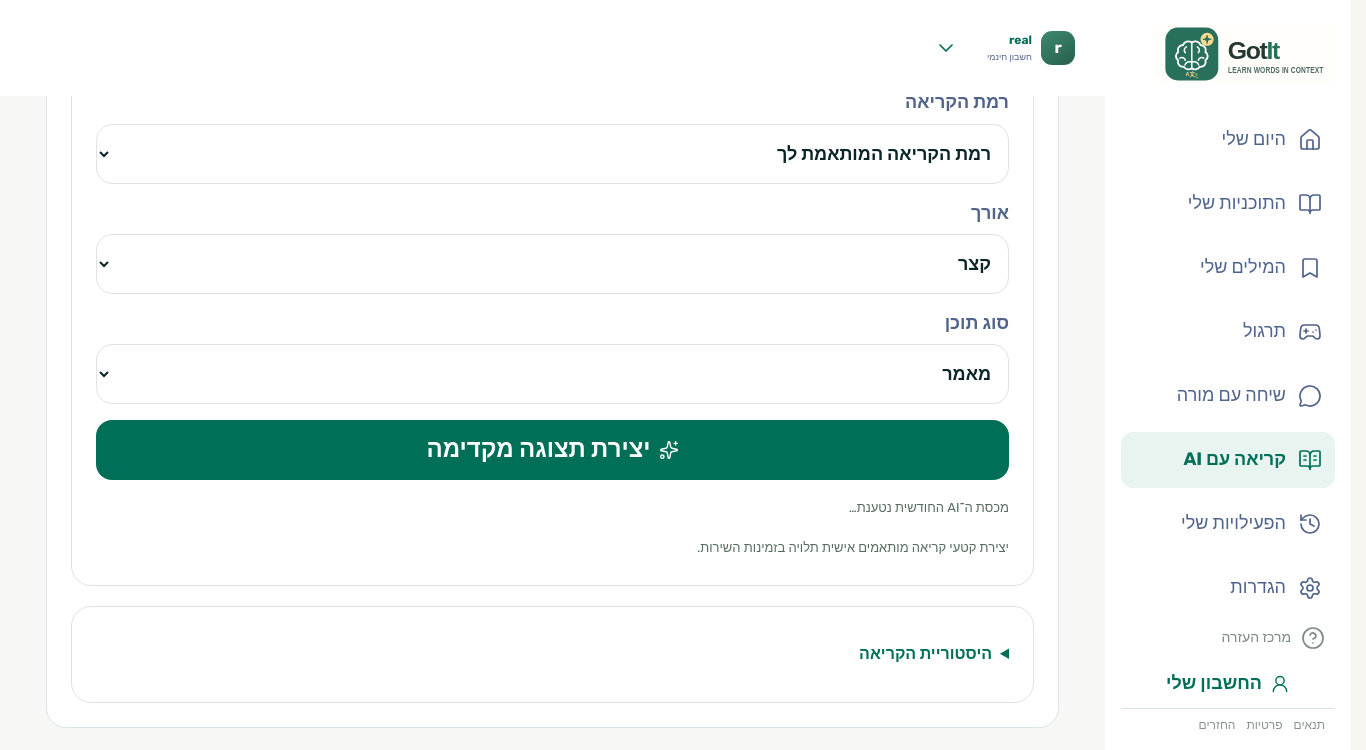
Scenario: live server-backed flows › previews the generated reading before explicit saving and offers a server quiz after publication
(page scrolled)
What coordinates should you click on to do the following:
click the button "יצירת תצוגה מקדימה"
I would click on:
 (552, 450)
Its box is [96,420,1009,480].
(page scrolled)
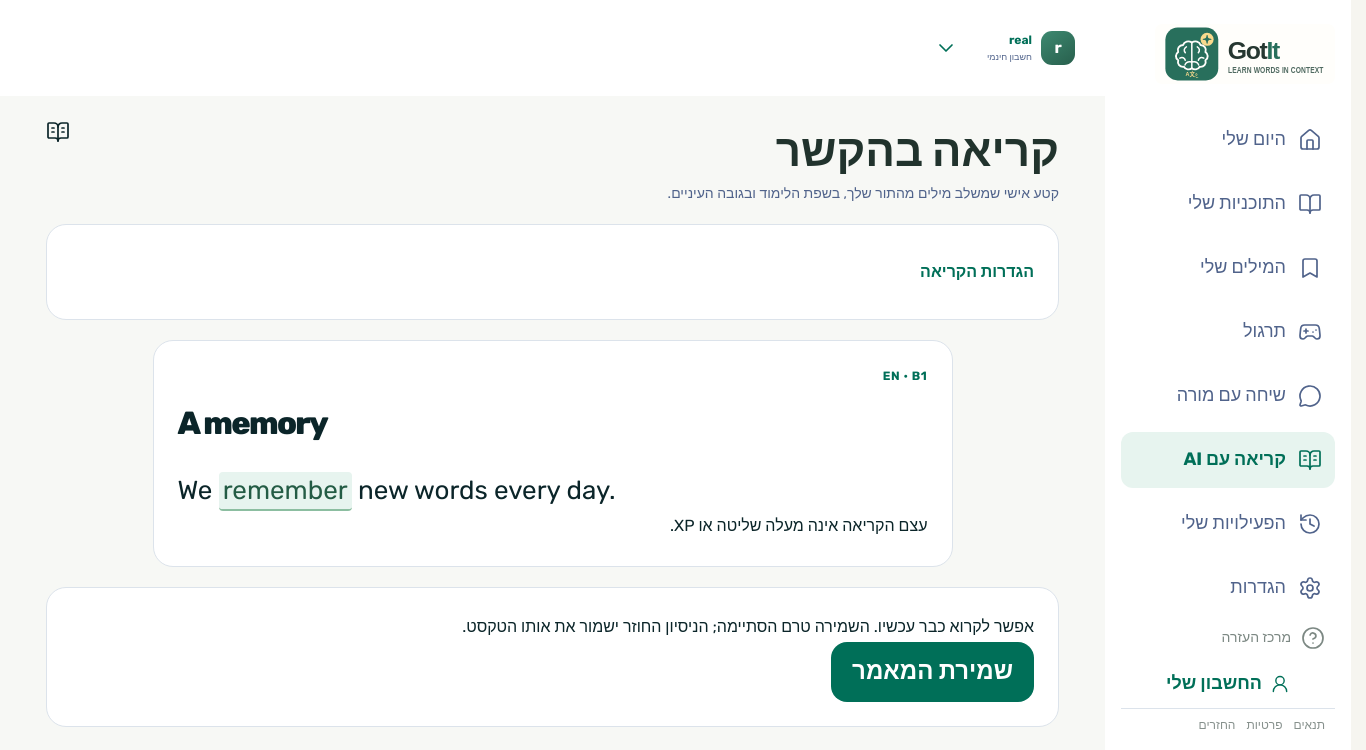
Check: the heading "A memory" is shown, box [178,404,327,442]
What coordinates should you click on to do the following:
click the button "שמירת המאמר"
I would click on:
 (933, 672)
Its box is [831,642,1034,702].
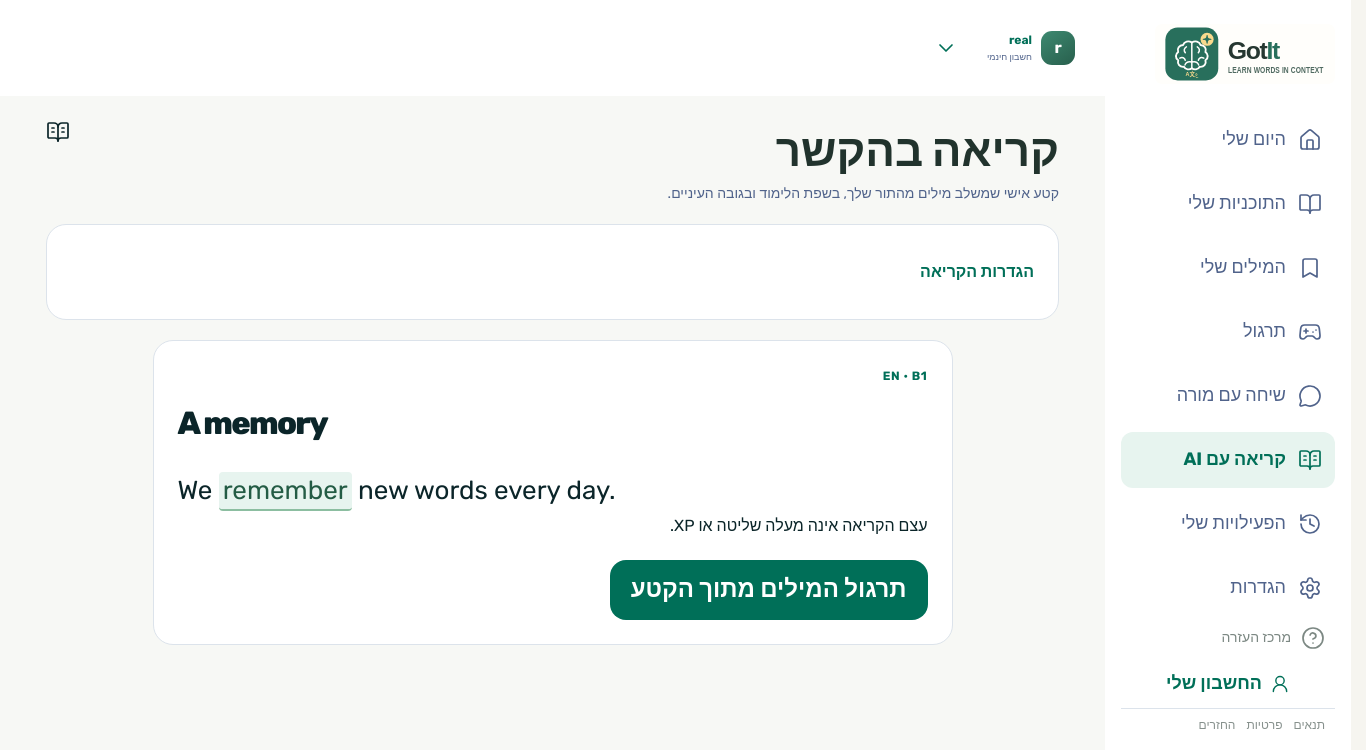
Check: the element with class "live-reading-body" reads "We remember new words every day.", box [178,472,616,511]
Check: the link "תרגול המילים מתוך הקטע" is shown, box [610,560,928,620]
What coordinates should you click on to do the following:
click the button "remember"
I would click on:
 (285, 492)
Its box is [219,472,352,511].
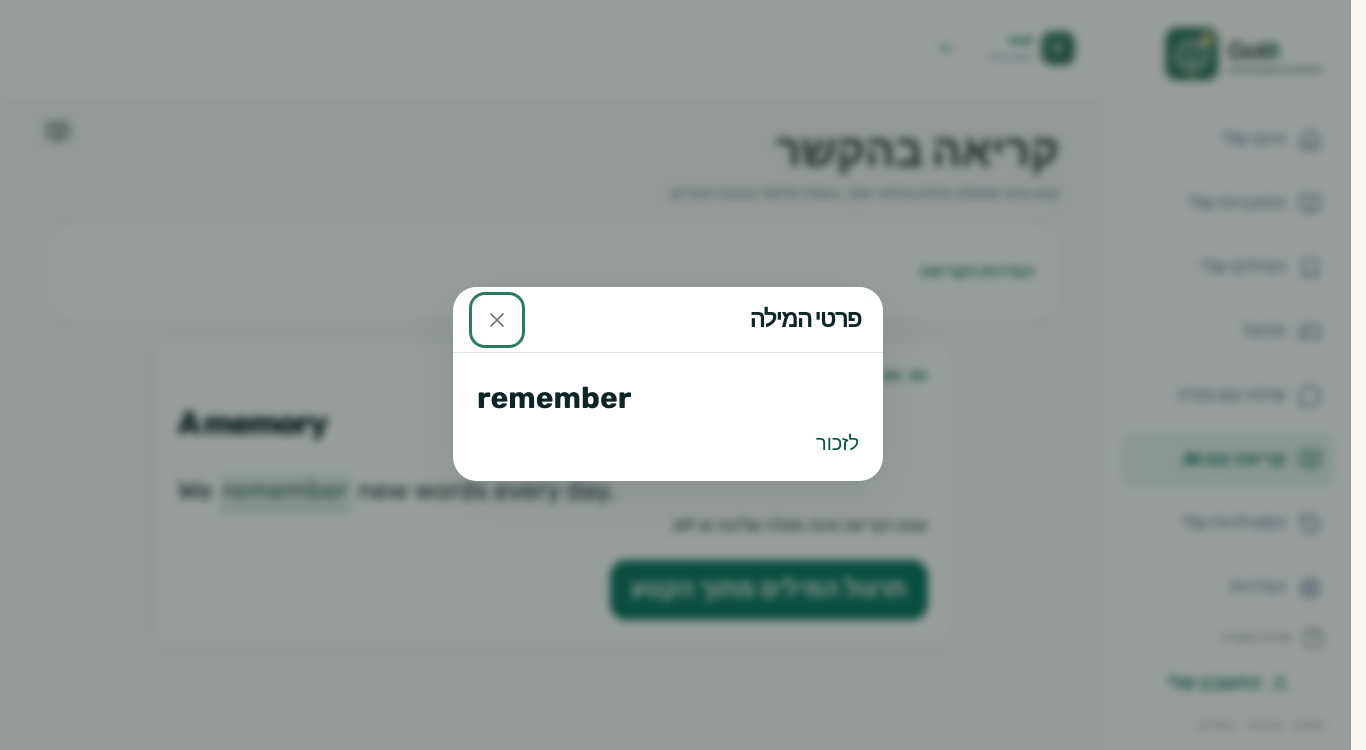
Check: the dialog shows "remember", box [477,380,631,416]
Check: the dialog shows "לזכור", box [816,431,859,455]
